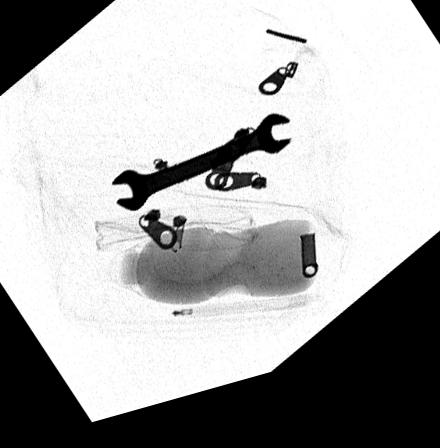Wrench: (109, 126, 294, 218)
